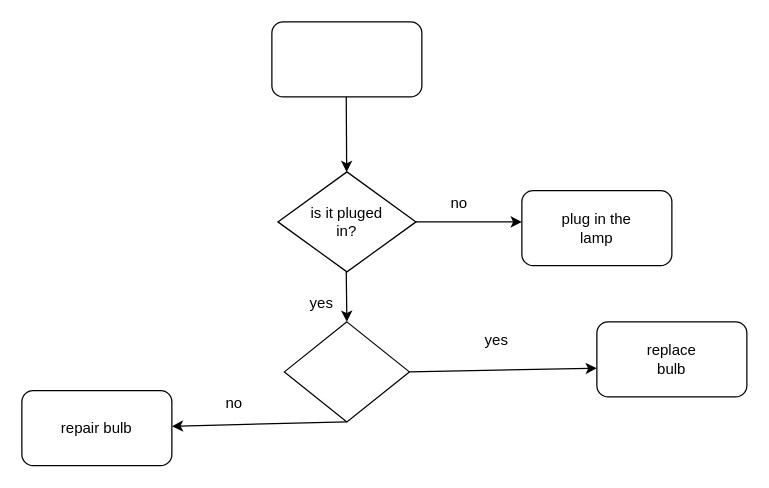
The diagram is 769 pixels wide and 488 high, and some of its shapes have lost their labels. Each missing label, with the centre of its shape:
Bulb burned out?: (x=346, y=371)
lamp does not work: (x=346, y=59)
